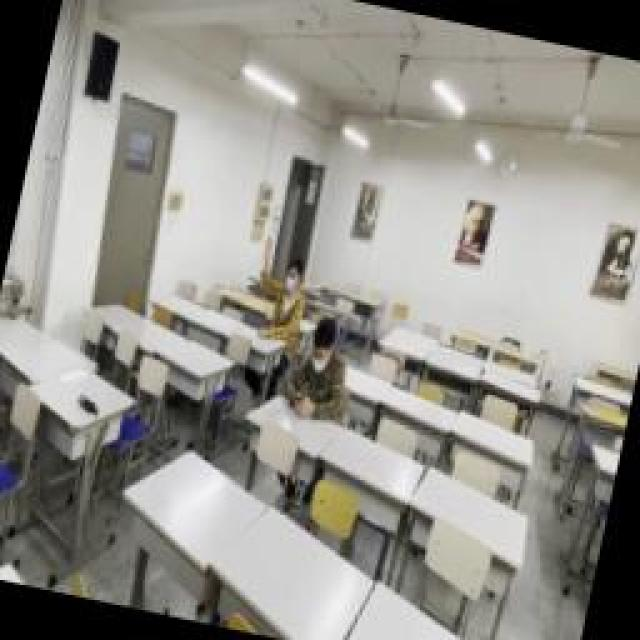phone: (280, 305, 358, 420)
study: (245, 232, 317, 340)
